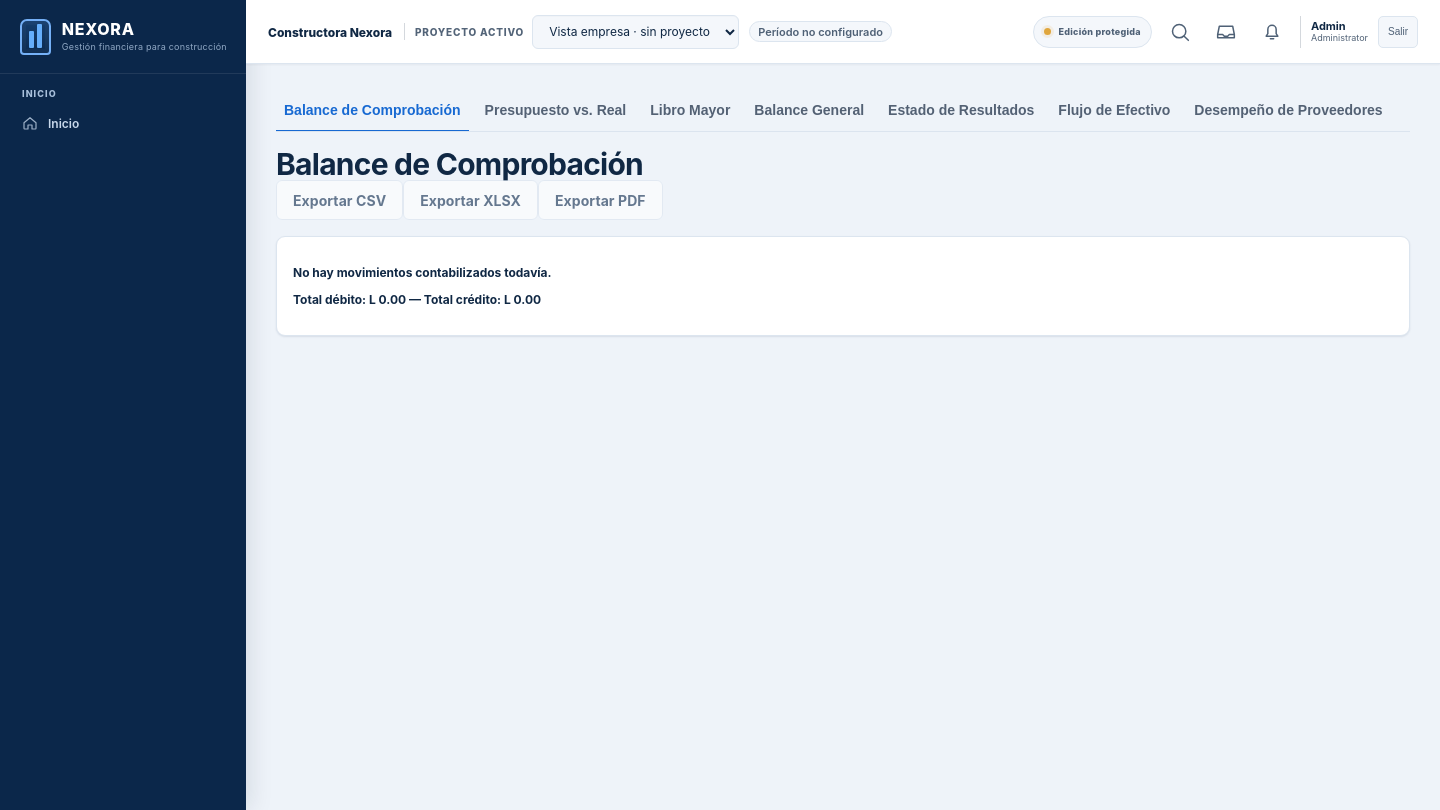
it: CashFlowPage › hides the unclassified card when every account is classified
Click the tab "Flujo de Efectivo": point(1114, 111) [1050, 90, 1178, 132]
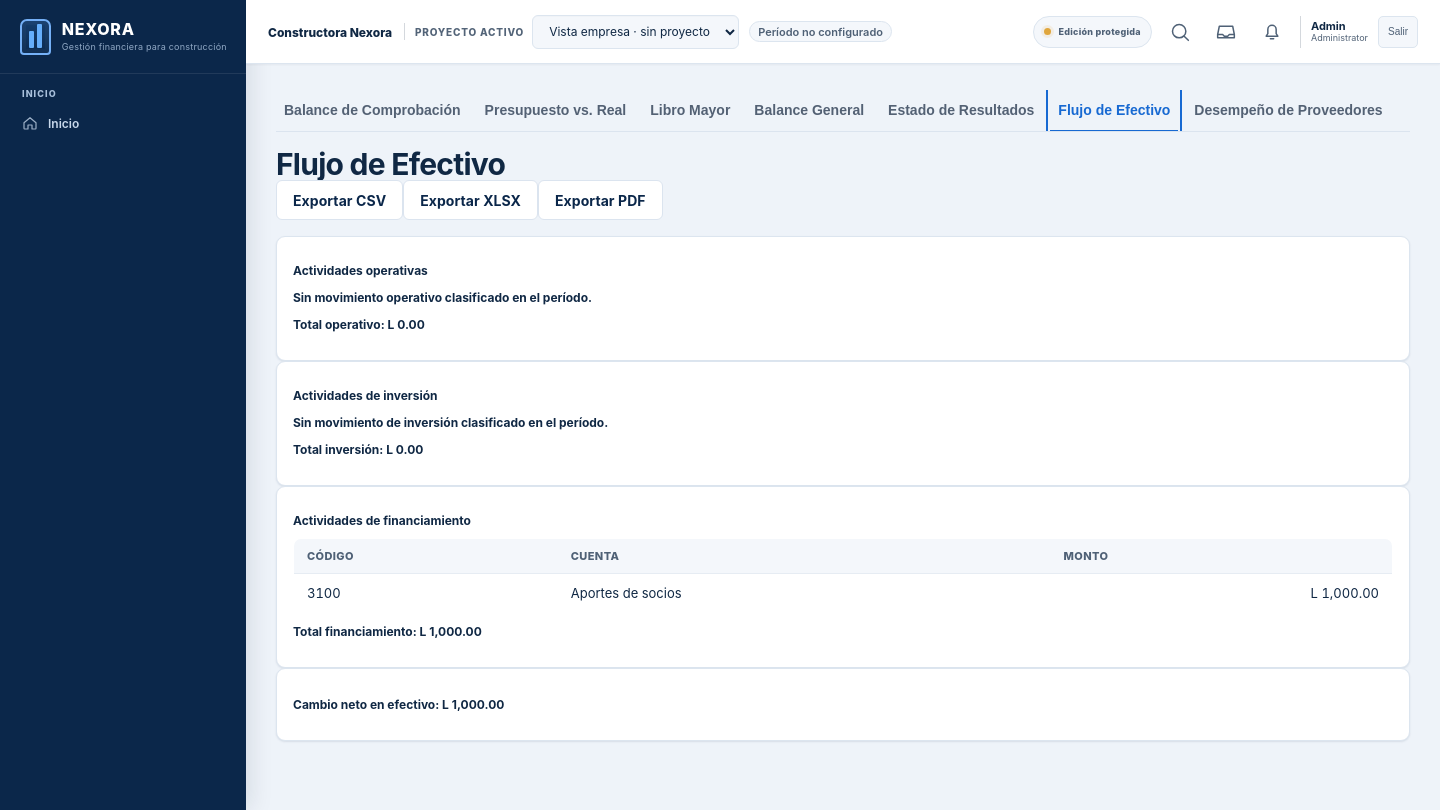
Result: the text "Aportes de socios" is shown at [558, 574, 1051, 612]
